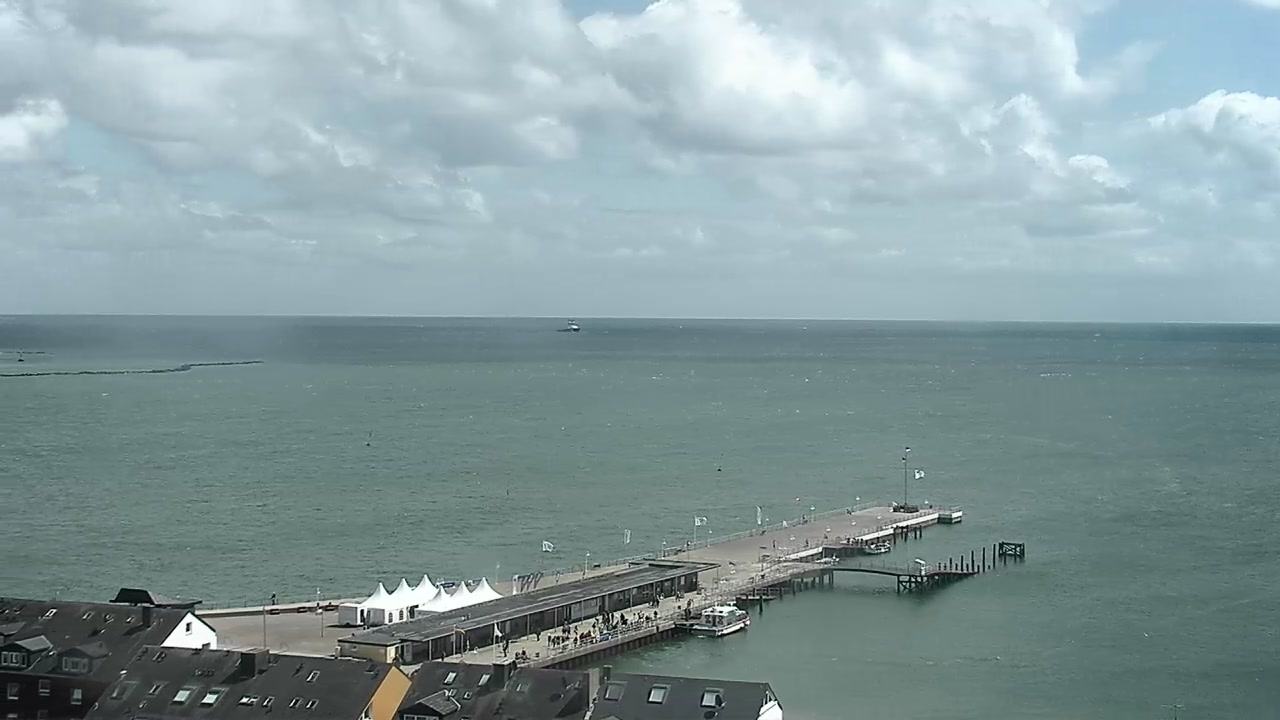human: (632, 608, 645, 622), (500, 637, 509, 657), (555, 632, 562, 649), (535, 626, 542, 642), (520, 644, 526, 662), (514, 649, 521, 664), (551, 633, 557, 650), (612, 617, 620, 629), (546, 632, 552, 647), (270, 591, 276, 605), (579, 631, 585, 645), (561, 621, 567, 635), (573, 623, 580, 635), (605, 609, 611, 623), (608, 608, 614, 622), (822, 531, 829, 542), (572, 635, 578, 647), (685, 598, 692, 608), (686, 608, 693, 618), (565, 632, 571, 643), (619, 611, 625, 622), (770, 538, 776, 549), (584, 632, 589, 645), (592, 621, 597, 634), (599, 622, 604, 635), (567, 622, 572, 634), (601, 609, 606, 621), (560, 634, 565, 645), (804, 537, 809, 548), (683, 607, 688, 618), (619, 617, 625, 626), (676, 591, 681, 601), (846, 536, 851, 546), (594, 615, 599, 624), (624, 617, 629, 626), (654, 609, 659, 618), (651, 598, 656, 607), (850, 539, 855, 548), (587, 627, 592, 635), (645, 614, 650, 622), (656, 597, 660, 607), (851, 535, 856, 543), (856, 538, 860, 546), (860, 537, 864, 545), (637, 611, 640, 621)
sea: (677, 601, 751, 637), (554, 316, 580, 333), (814, 552, 841, 566), (865, 541, 891, 554)
